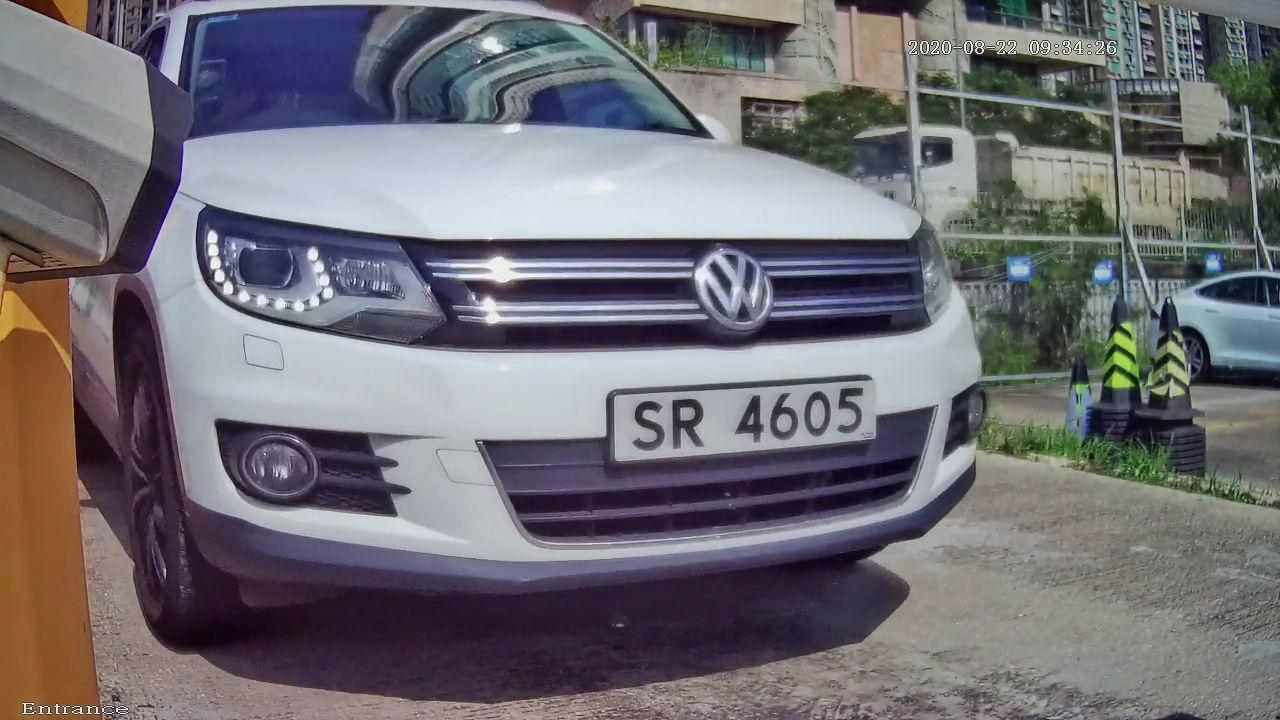Car: (6, 13, 1109, 653)
License Plate: (595, 364, 886, 476)
